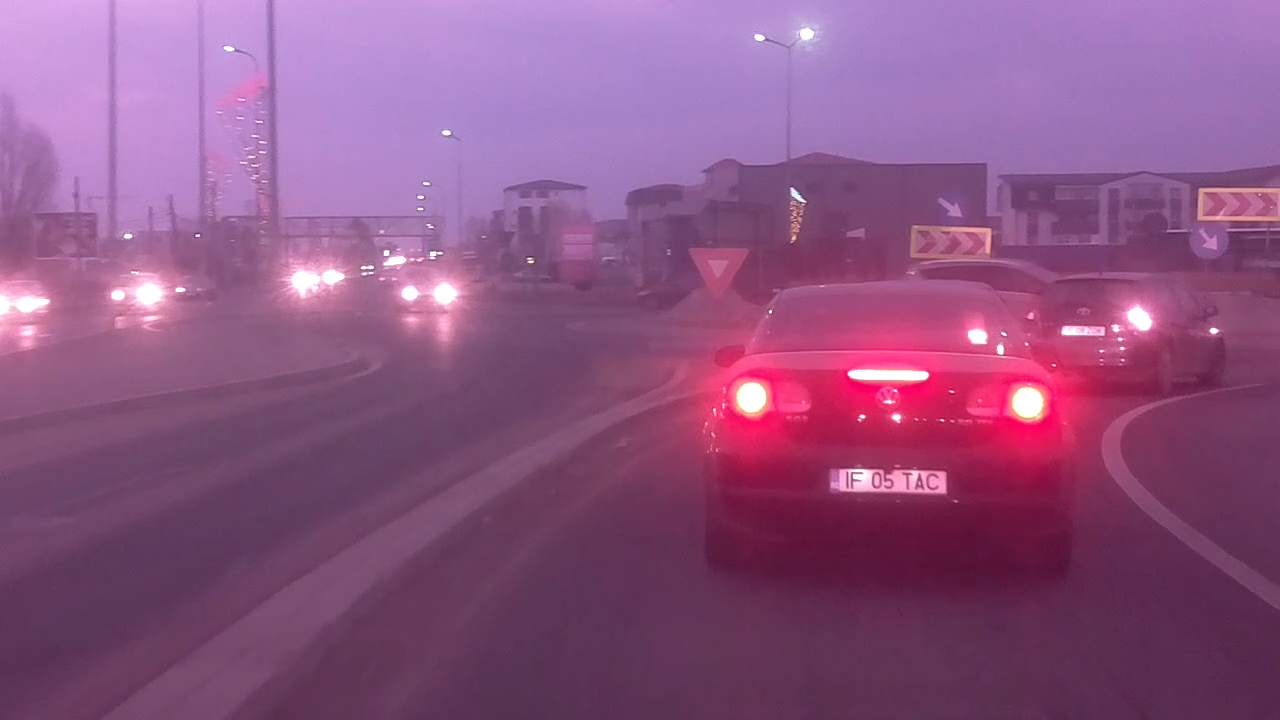license-plate: (826, 465, 951, 498)
